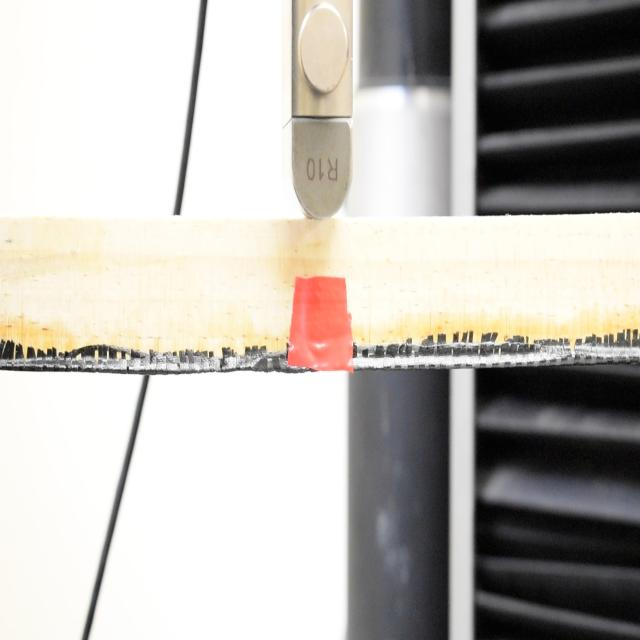wood: (0, 214, 638, 370)
